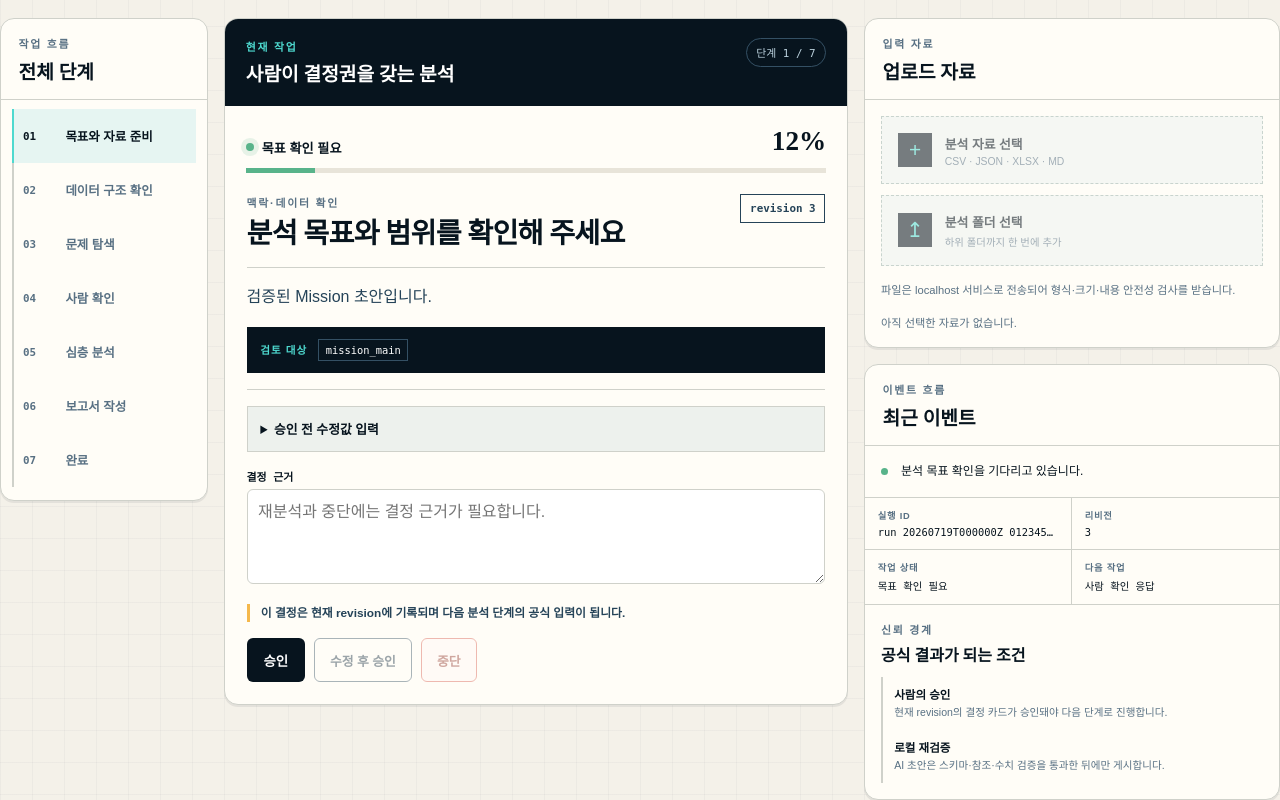
Scenario: LiveAnalysisCommandCenter › refreshes the canonical snapshot when a mutation response fails
The width and height of the screenshot is (1280, 800).
(page scrolled)
Expected: the heading "분석 목표와 범위를 확인해 주세요" is shown, [247, 216, 625, 251]
Click the button "승인" at (276, 660), box [247, 638, 305, 682]
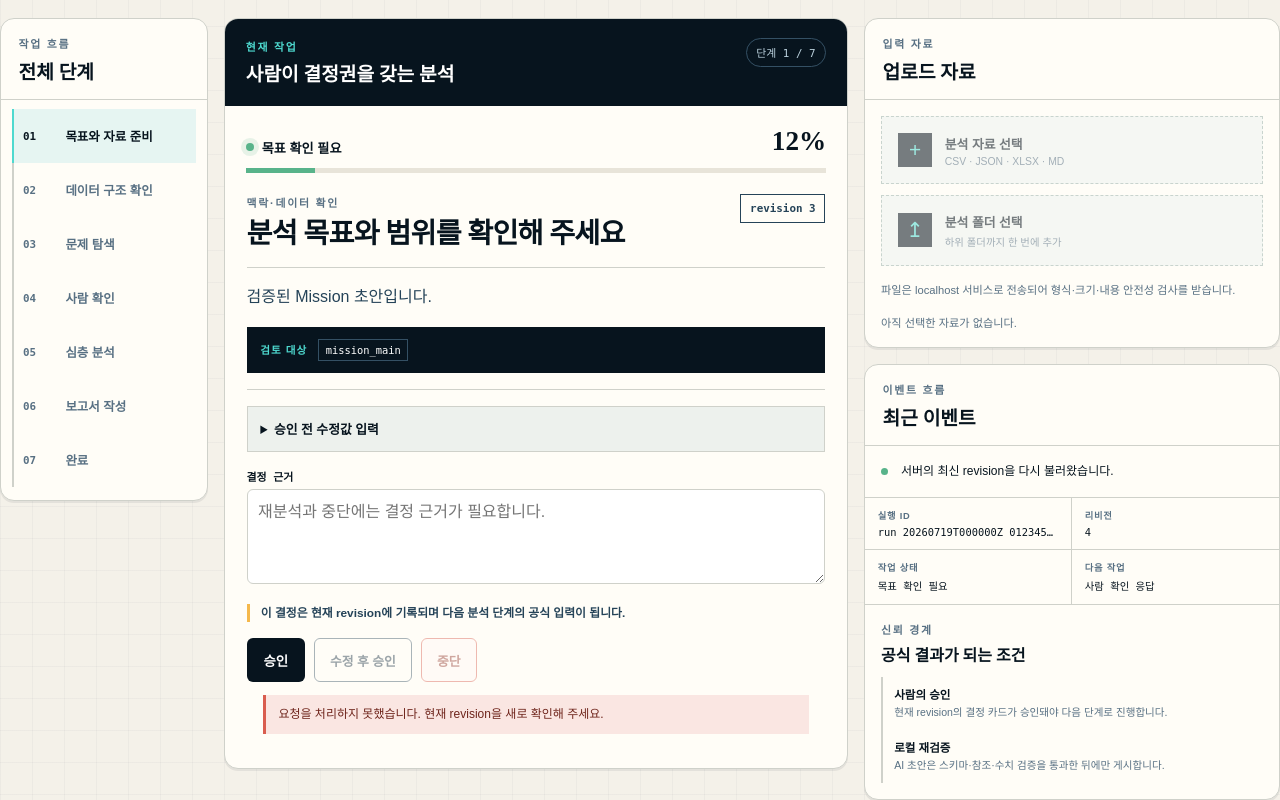
Expected: the text "서버의 최신 revision을 다시 불러왔습니다." is shown, [901, 464, 1114, 478]
Expected: the message shows "현재 revision을 새로 확인해 주세요.", [278, 707, 604, 721]
